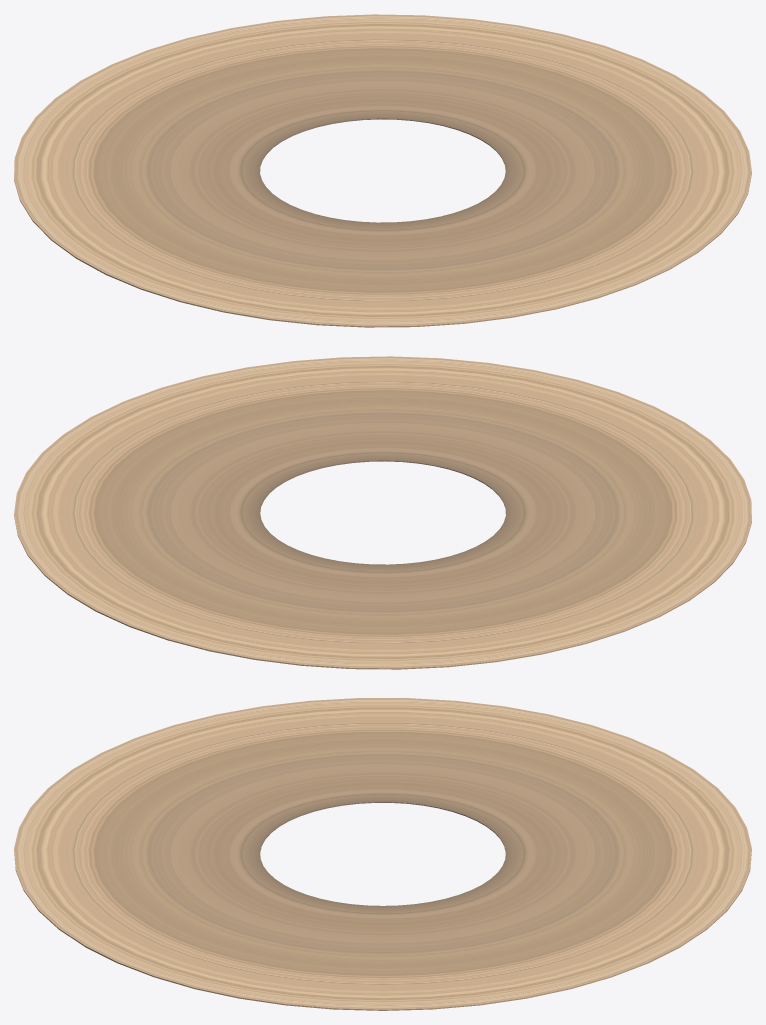
The model's file is satrun ring.fbx.
The picture shows the model from 3 angles, top to bottom: view 1: azimuth 30°, elevation 25°; view 2: azimuth 150°, elevation 25°; view 3: azimuth 270°, elevation 25°; orthographic projection.
Parts seen in each view (by area): view 1: pPipe1; view 2: pPipe1; view 3: pPipe1.
Part boxes in pixels (x1,y1,x2,y2): pPipe1: [14, 14, 751, 327]; pPipe1: [14, 356, 751, 669]; pPipe1: [14, 698, 751, 1010].
Size of the model in its own units: 8.7 by 0.0158 by 8.71.
